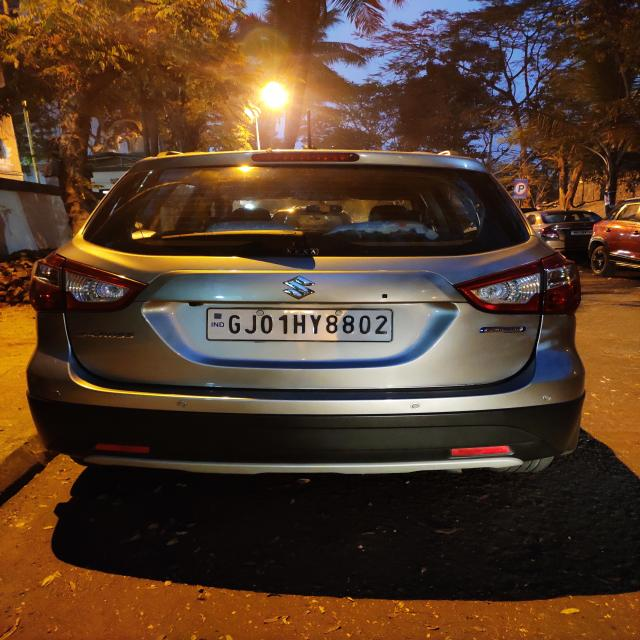Number-Plate: (207, 307, 396, 339)
